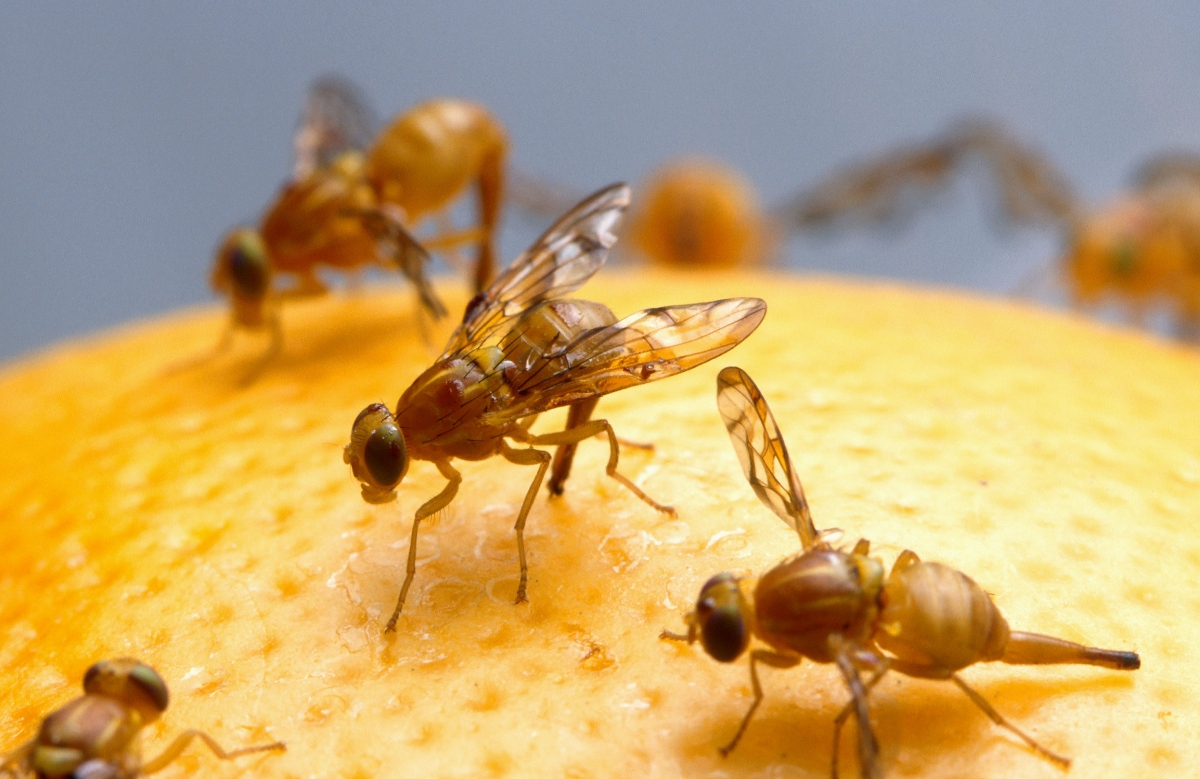Fruit fly: (334, 212, 700, 637), (716, 506, 1168, 721)
